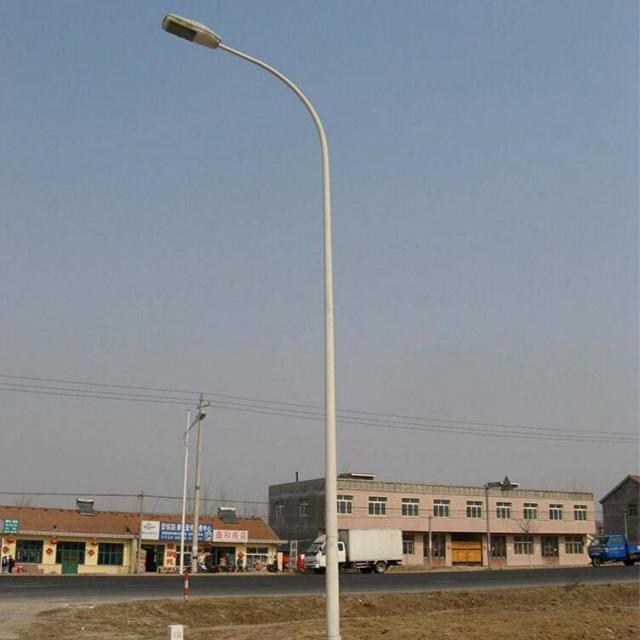pole: (311, 139, 347, 636), (189, 438, 202, 572), (176, 453, 187, 572)
truck: (306, 525, 405, 572)
warning_column: (182, 574, 188, 600)
